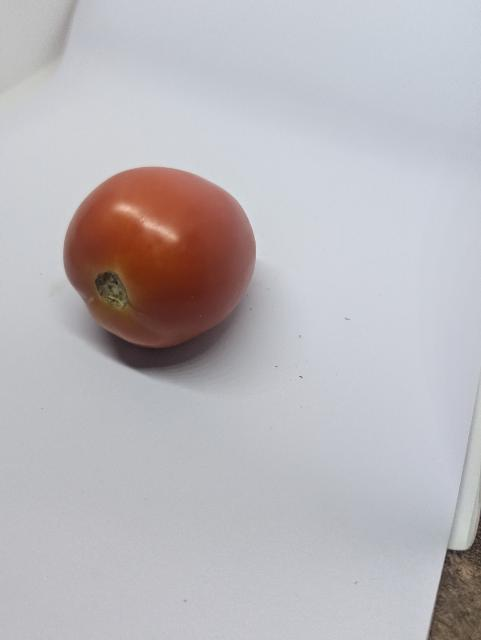red: (60, 161, 274, 374)
